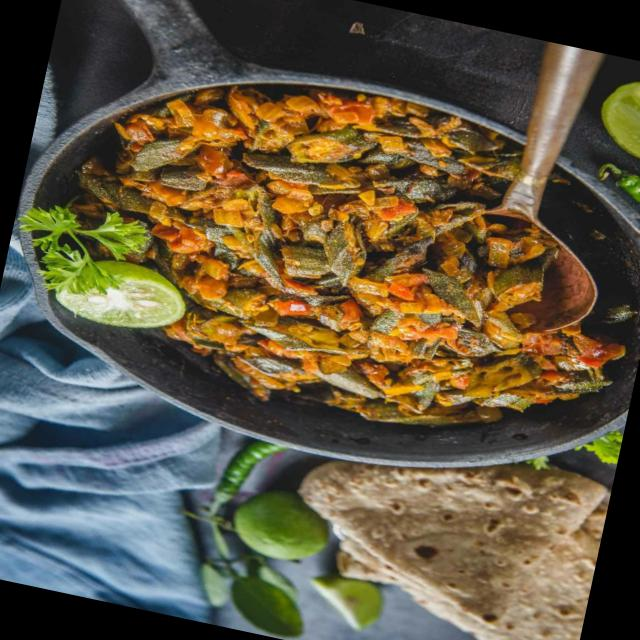BhindiMasala: (39, 37, 640, 474)
